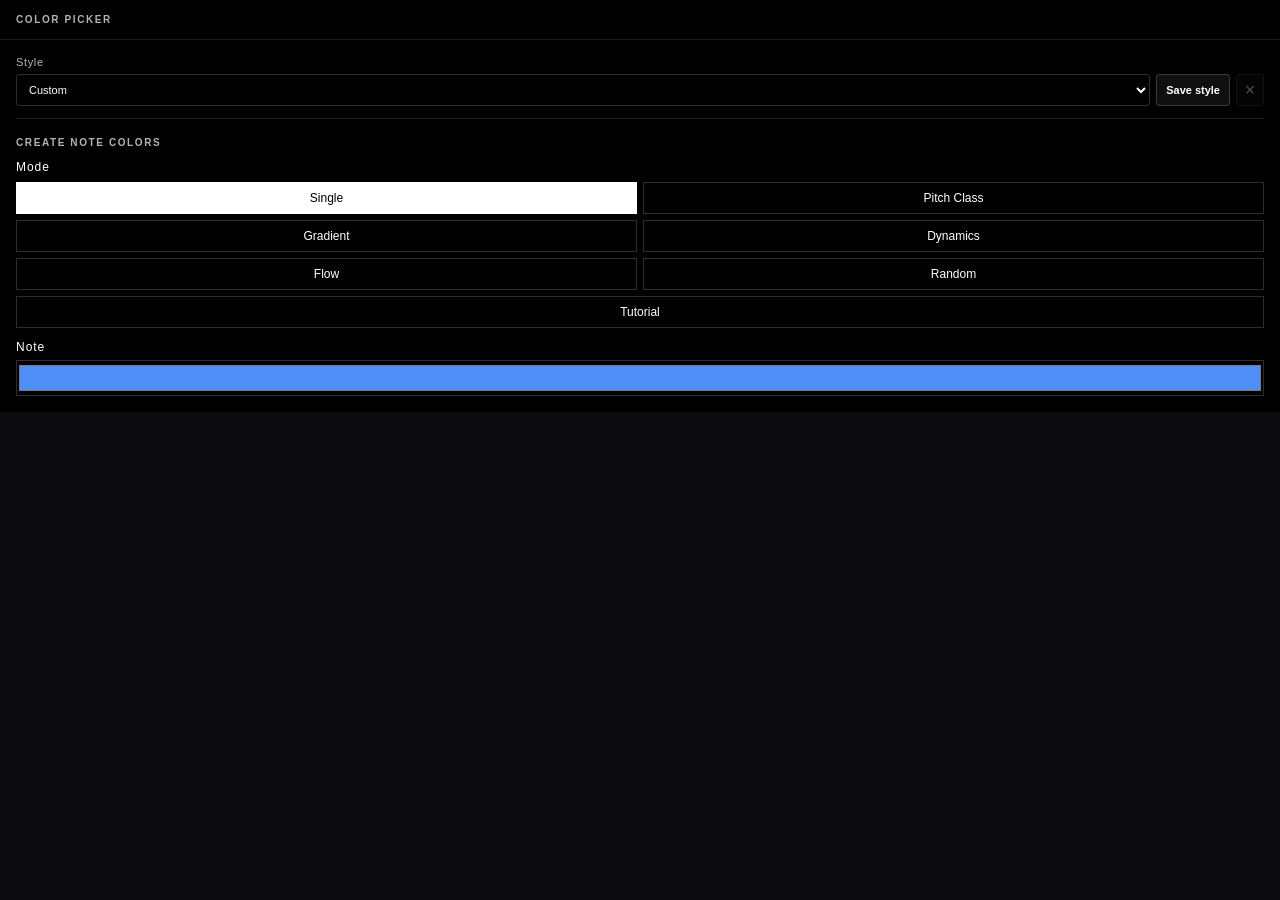
CreateColorPanel › switches to pitch-class mode and shows the chromatic grid
Step 1. Click the button "Pitch Class" → [954, 198], box [643, 182, 1264, 214]
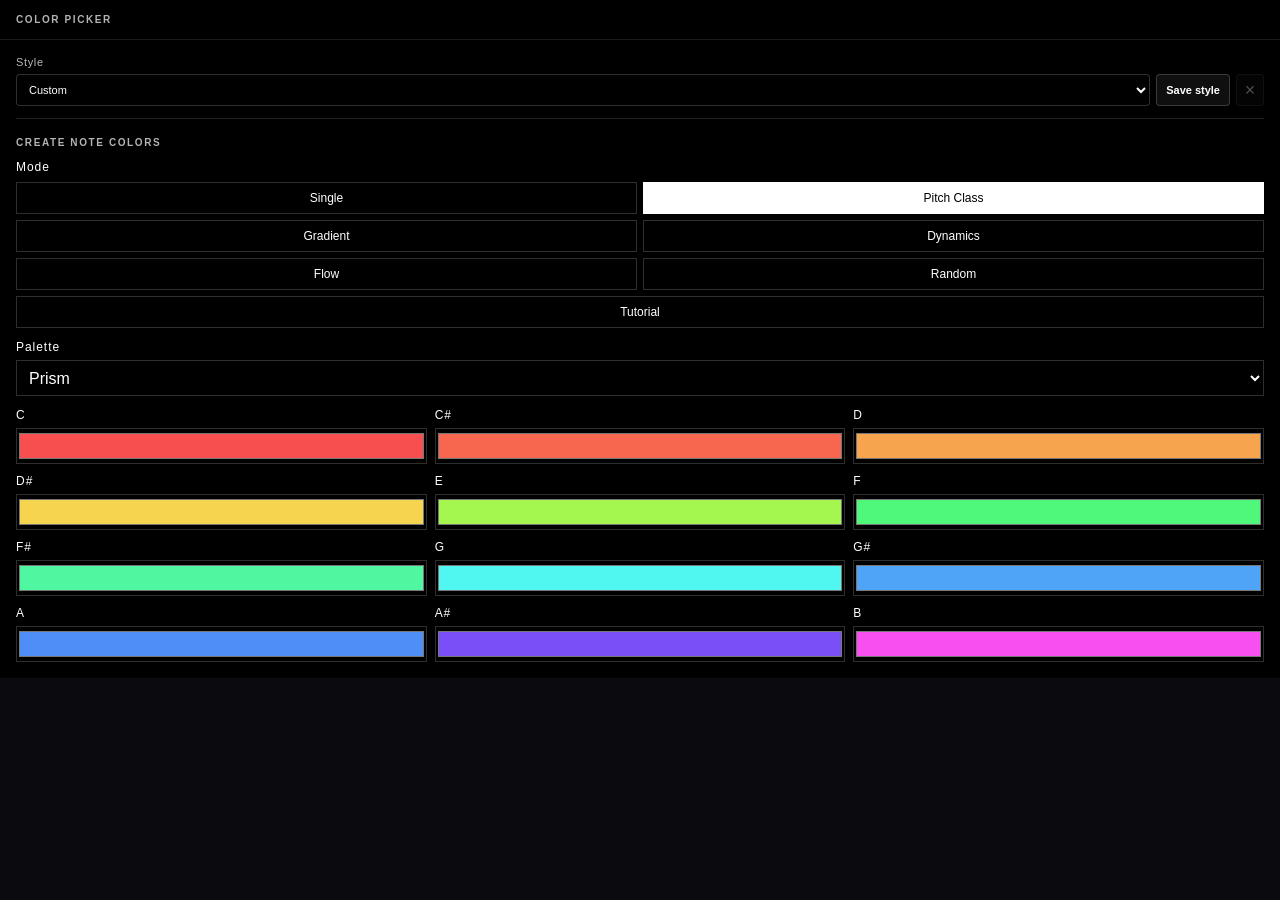
expect the colour field named "C pitch class color" is shown: met, box [16, 428, 427, 464]
expect the colour field named "A pitch class color" is shown: met, box [16, 626, 427, 662]
expect the colour field named "B pitch class color" is shown: met, box [853, 626, 1264, 662]
